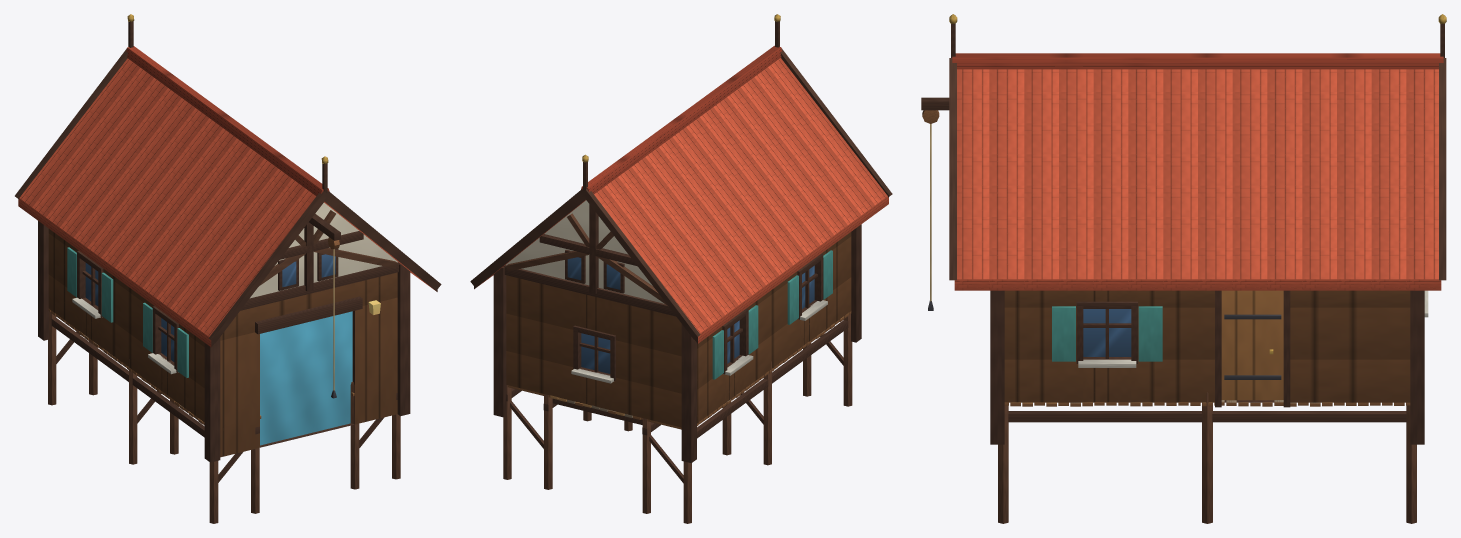
The model's file is bld_boathouse_01.glb.
The picture shows the model from 3 angles, left to right: view 1: azimuth 30°, elevation 25°; view 2: azimuth 150°, elevation 25°; view 3: azimuth 270°, elevation 25°; orthographic projection. The views are drawn at different scales.
Visible parts, largest first — view 1: bld_boathouse_01; view 2: bld_boathouse_01; view 3: bld_boathouse_01.
Boxes of the visible parts, x1=… form: bld_boathouse_01: x1=15, y1=14, x2=441, y2=523; bld_boathouse_01: x1=470, y1=14, x2=892, y2=523; bld_boathouse_01: x1=921, y1=14, x2=1446, y2=523.
Bounding box in the file's own units: 7.01 × 10.44 × 11.02.
Materials: 1 (1 with a texture image).
